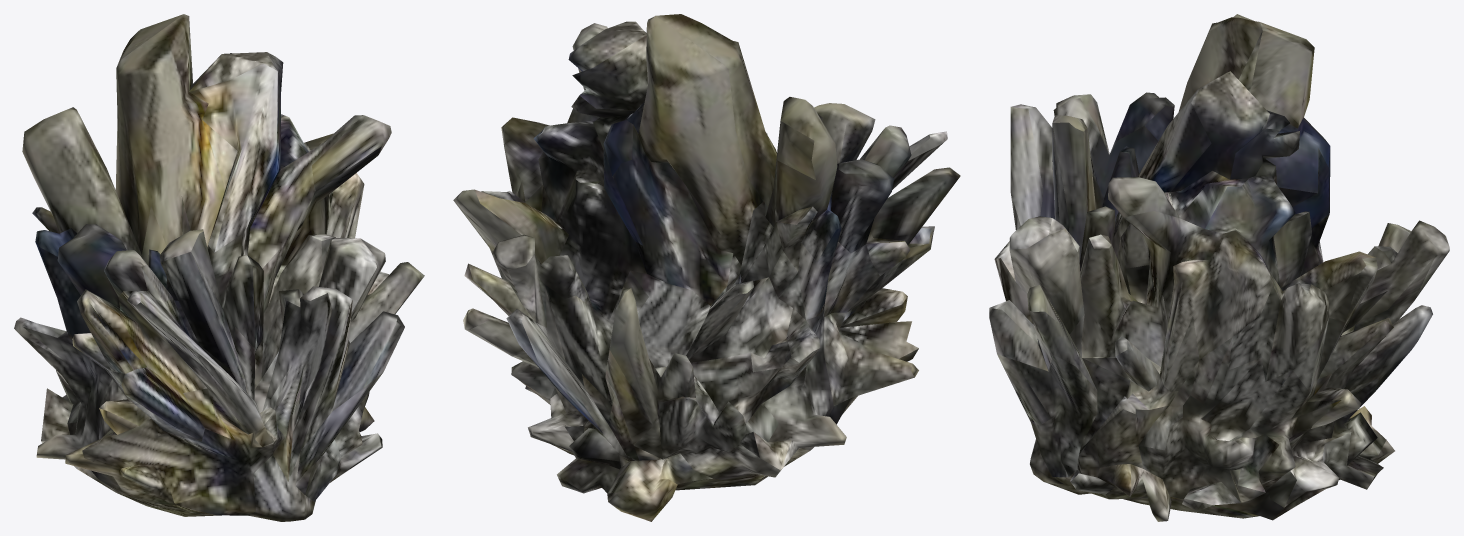
File: crystal-dig_engine_01.glb
3 renders of one model, left to right at view 1: azimuth 30°, elevation 25°; view 2: azimuth 150°, elevation 25°; view 3: azimuth 270°, elevation 25°, orthographic. The views are drawn at different scales.
Parts seen in each view (by area): view 1: mesh_node.002; view 2: mesh_node.002; view 3: mesh_node.002.
Boxes of the visible parts, box(x1,y1,x2,y2) form: mesh_node.002: box(14, 14, 424, 521); mesh_node.002: box(453, 14, 960, 521); mesh_node.002: box(989, 14, 1449, 521).
Bounding box in the file's own units: 0.335 × 0.3994 × 0.3564.
1 material, 1 textured.
